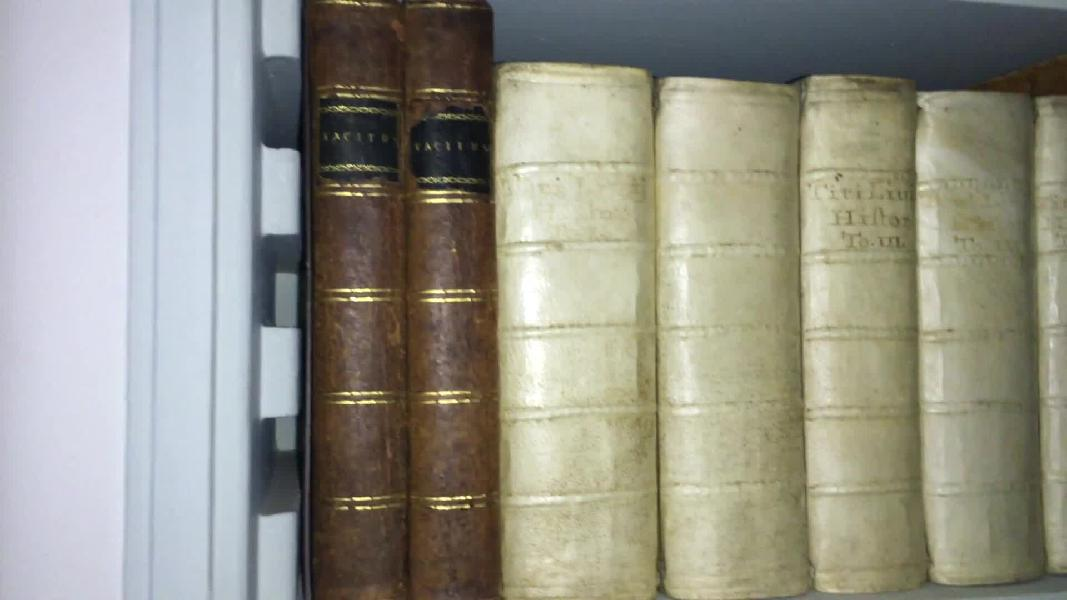Kk4-1_2: (297, 1, 507, 600)
Kk4-3_7: (492, 57, 1067, 600)
